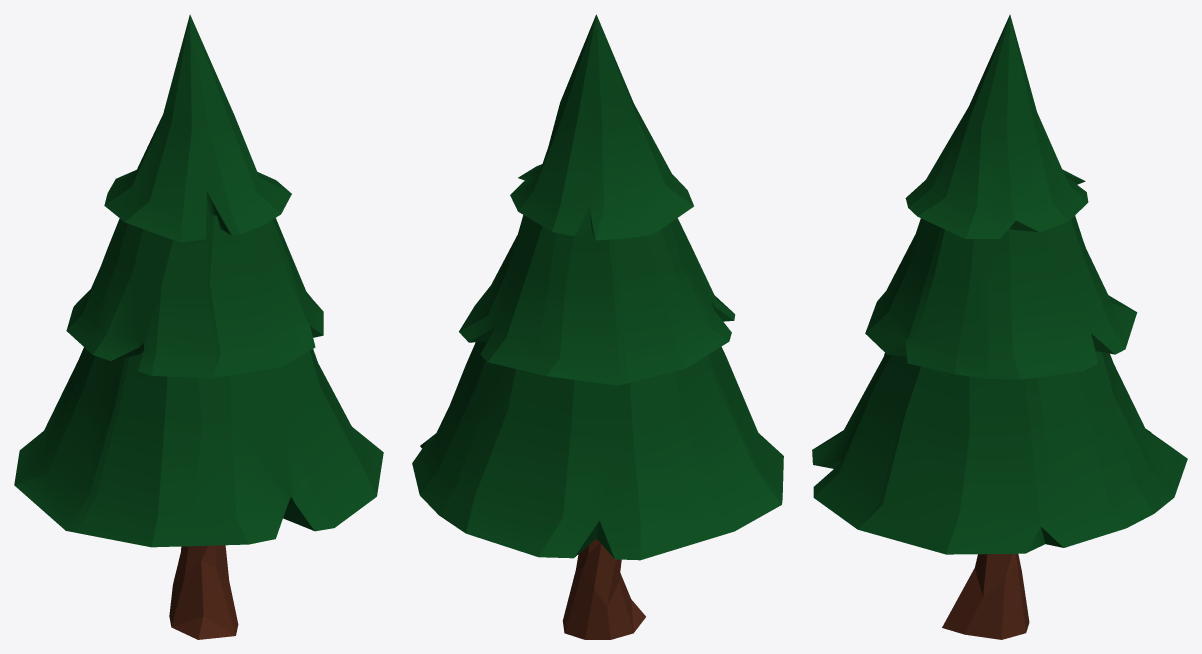
File: Tree_5_Low.fbx
3 views of the same model, side by side, from view 1: azimuth 30°, elevation 25°; view 2: azimuth 150°, elevation 25°; view 3: azimuth 270°, elevation 25° (orthographic). The views are drawn at different scales.
Visible parts, largest first — view 1: Tree_5_Low; view 2: Tree_5_Low; view 3: Tree_5_Low.
Part boxes in pixels (<box>): Tree_5_Low: <box>14,14,383,639</box>; Tree_5_Low: <box>412,14,783,639</box>; Tree_5_Low: <box>812,14,1187,639</box>.
Size of the model in its own units: 113 by 204 by 114.
